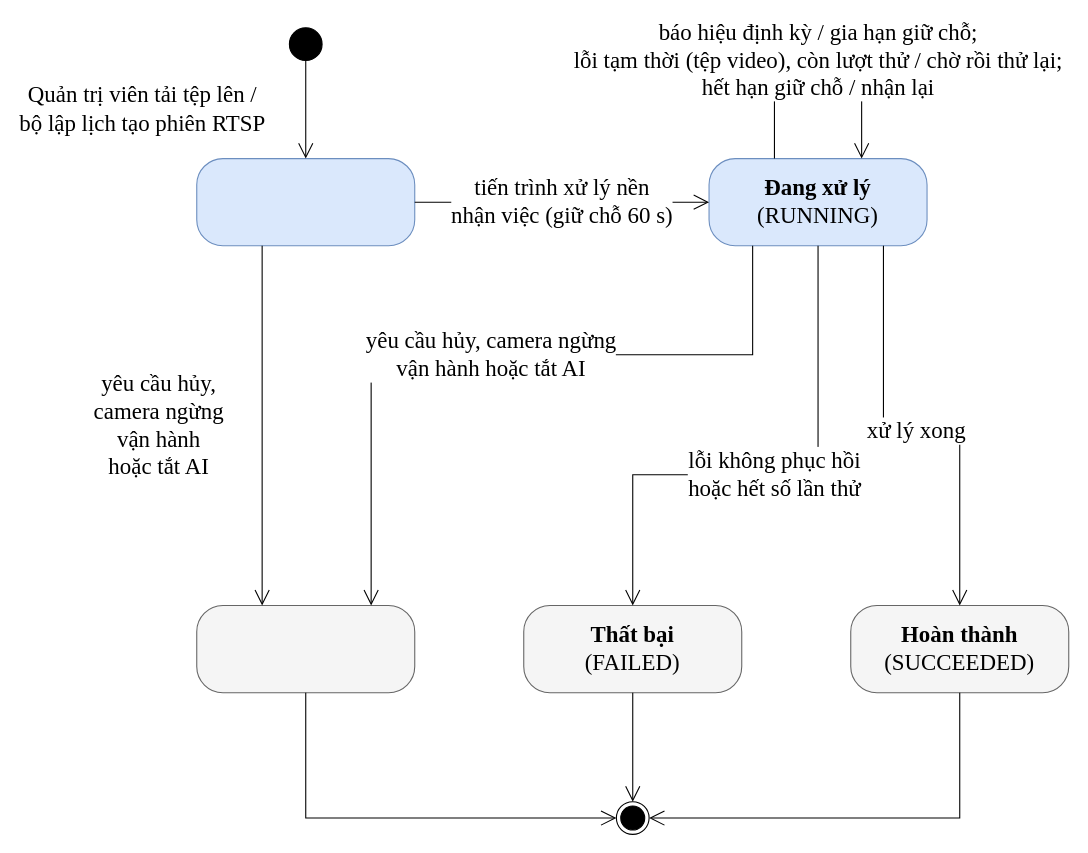
The diagram is 1088 pixels wide and 853 high, and some of its shapes have lost their labels. Each missing label, with the centre of its shape:
"Chờ xử lý (PENDING)" goes at pixel 305 202.
"Đã hủy (CANCELLED)" goes at pixel 305 648.
